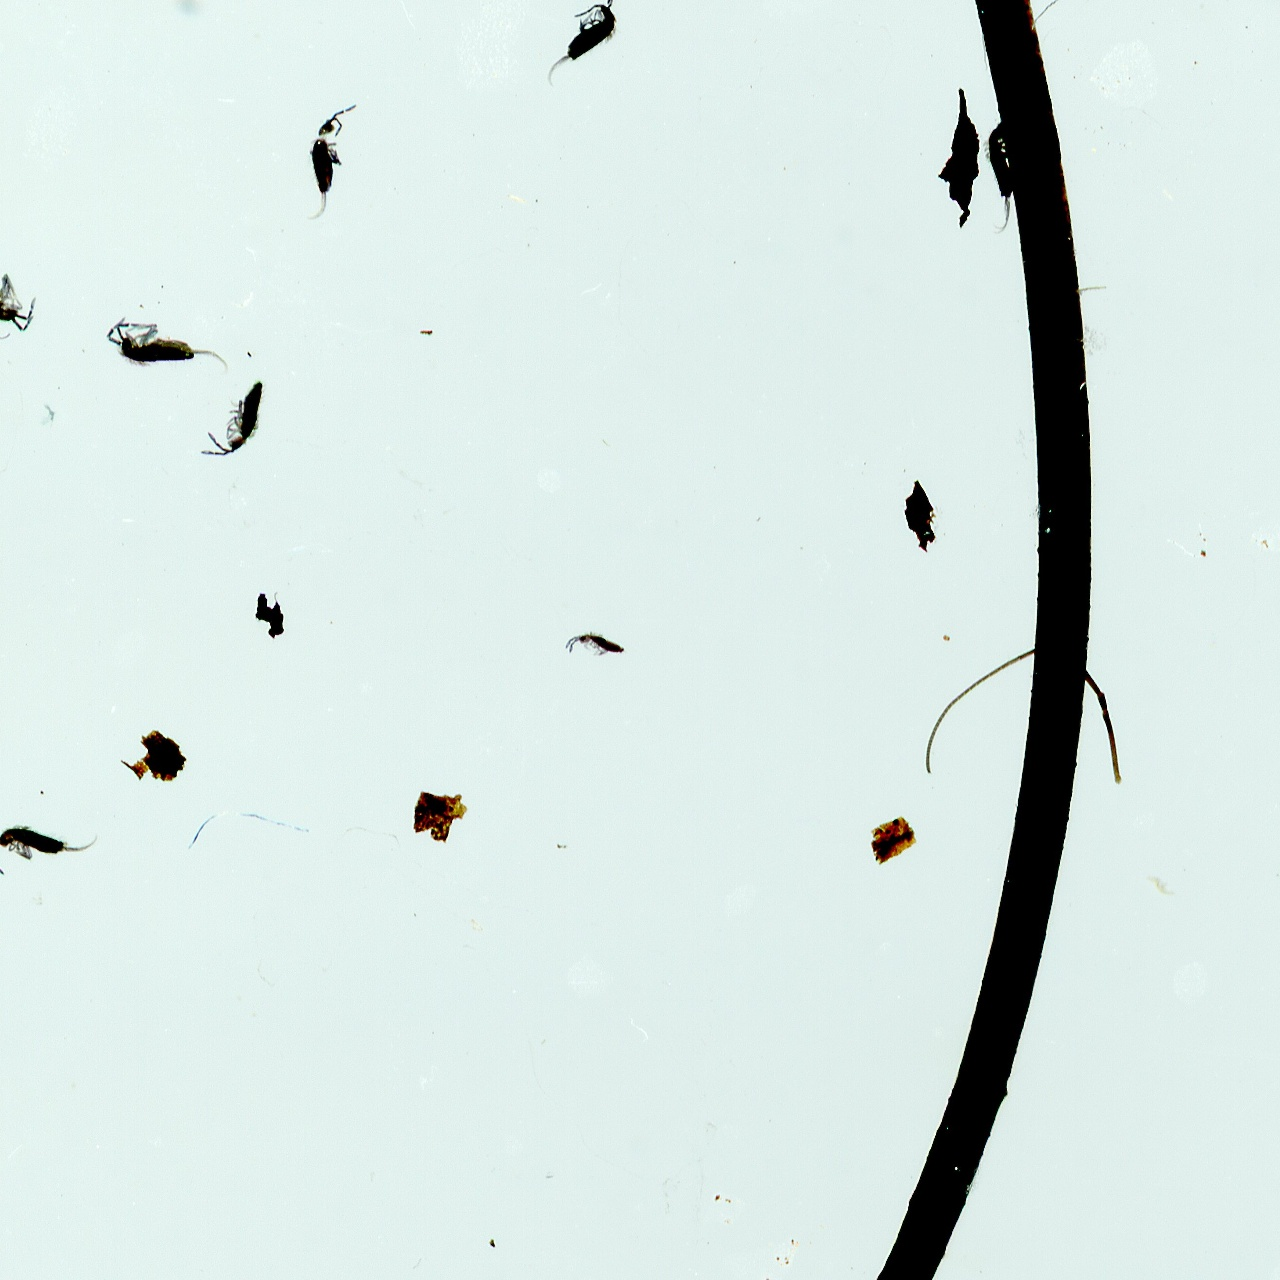arthropod: (524, 0, 645, 110), (102, 301, 239, 381), (0, 202, 59, 350), (305, 93, 363, 227), (0, 815, 108, 880), (195, 374, 267, 465), (981, 104, 1027, 244), (558, 618, 639, 668)
